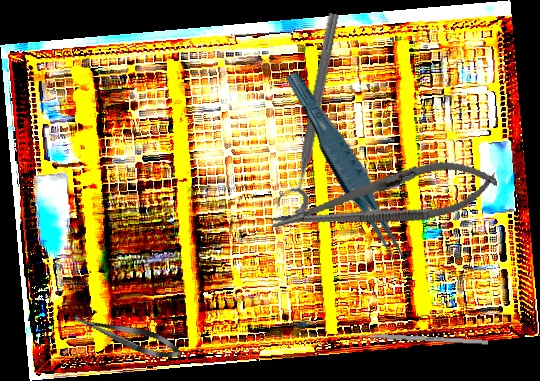Fixation Ring: (272, 9, 346, 217)
Micro Scissor: (68, 305, 186, 366)
Needle Holder: (265, 150, 502, 250)
Pusher: (342, 332, 489, 345)
Tissue Forceps: (283, 63, 412, 279)
